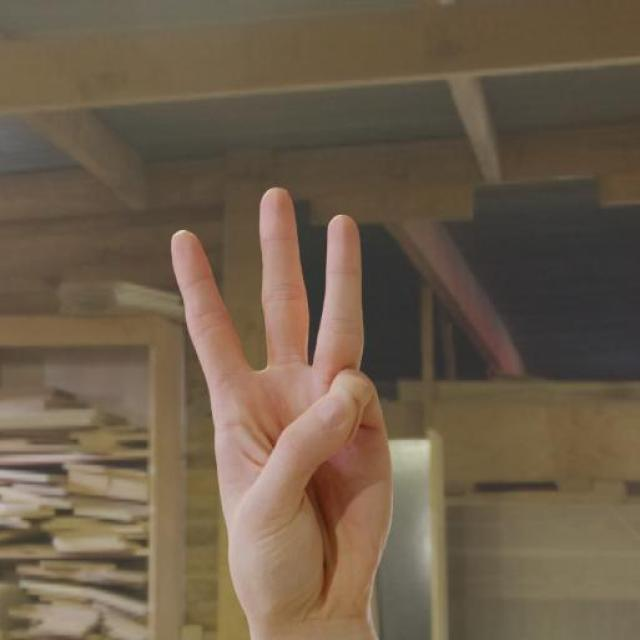W: (141, 167, 448, 640)
